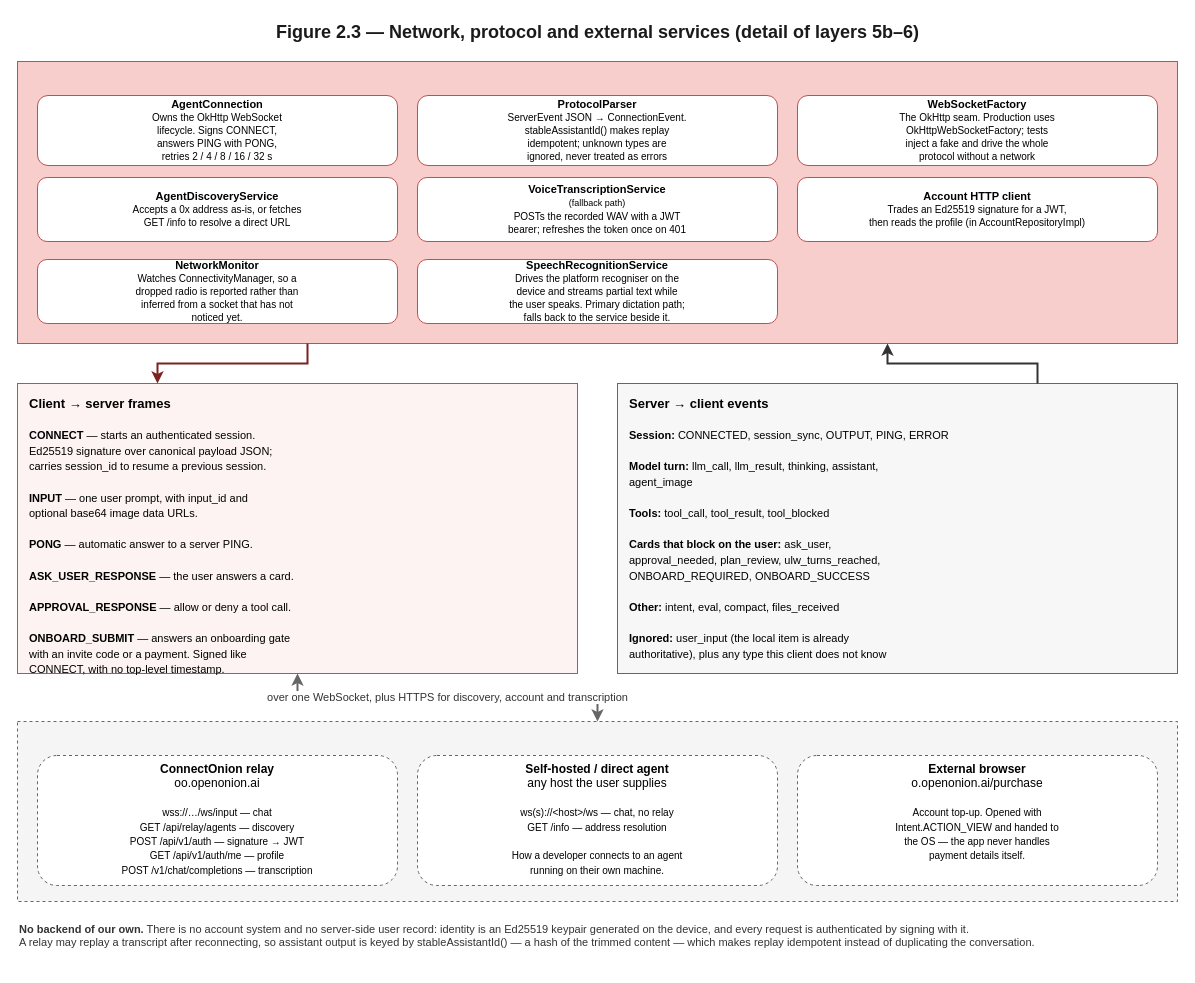
The diagram is 1195 pixels wide and 983 high, and some of its shapes have lost their labels. The shapes that lost their labels are listed below. From the top down, each one's box as (x1, y1, x2, y2) in pixels, then its label:
(16, 60, 1178, 344): Network / protocol — network/, data/protocol/
(16, 720, 1178, 902): External systems — not part of this repository
